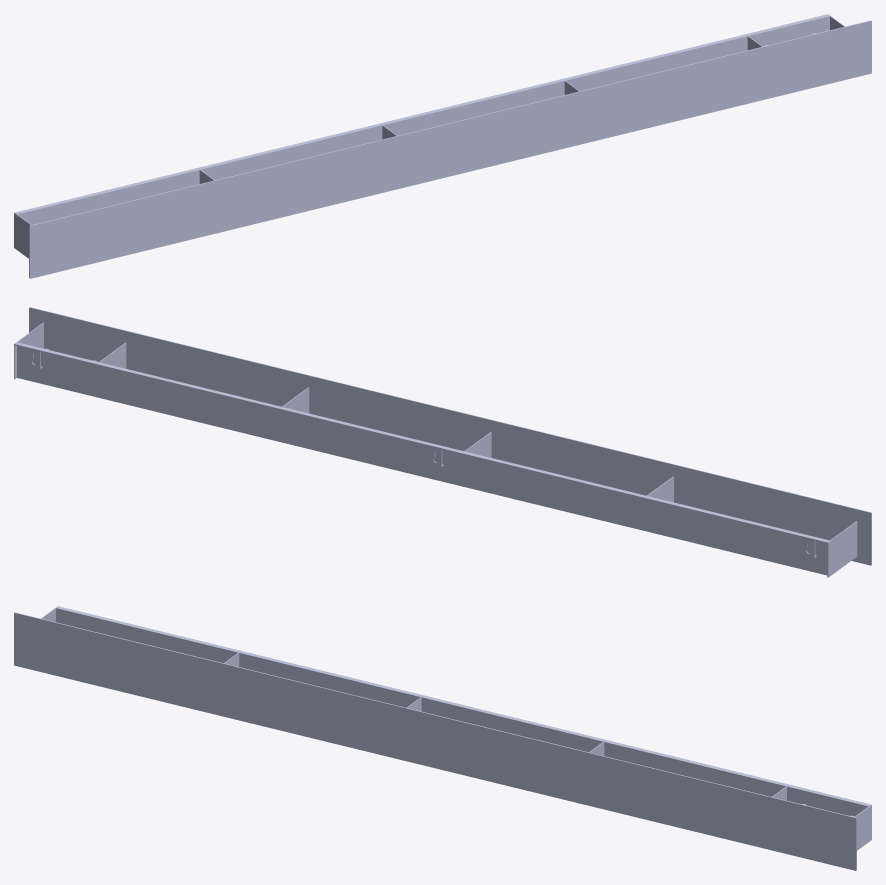
File: skyline-patron.3357d4a842.glb
The picture shows the model from 3 angles, top to bottom: view 1: azimuth 30°, elevation 25°; view 2: azimuth 150°, elevation 25°; view 3: azimuth 330°, elevation 25°; orthographic projection.
Visible parts, largest first — view 1: NAUO1; view 2: NAUO1; view 3: NAUO1.
Part boxes in pixels (<box>): NAUO1: <box>14,14,871,278</box>; NAUO1: <box>14,307,871,577</box>; NAUO1: <box>14,606,871,870</box>.
Size of the model in its own units: 1.5 by 0.0899 by 0.0919.
